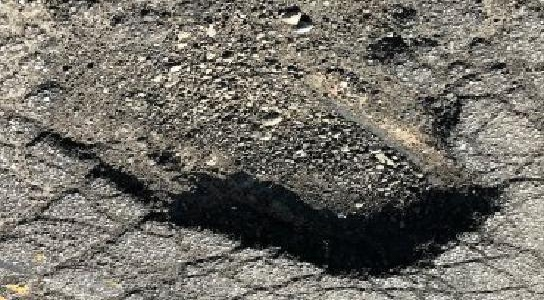pothole: (14, 0, 510, 282)
